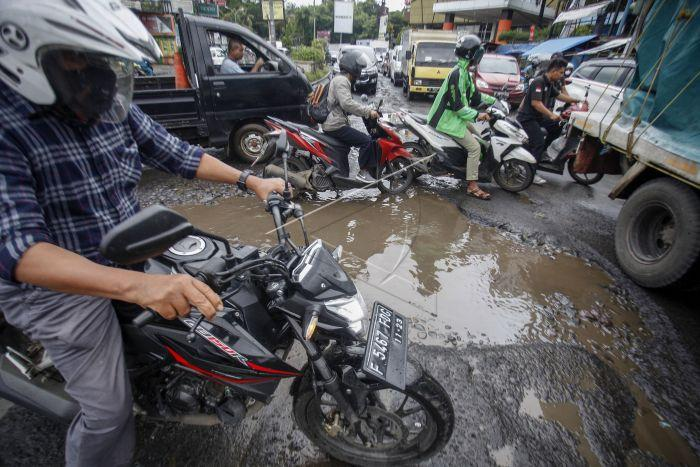Pothole: (156, 170, 700, 467)
